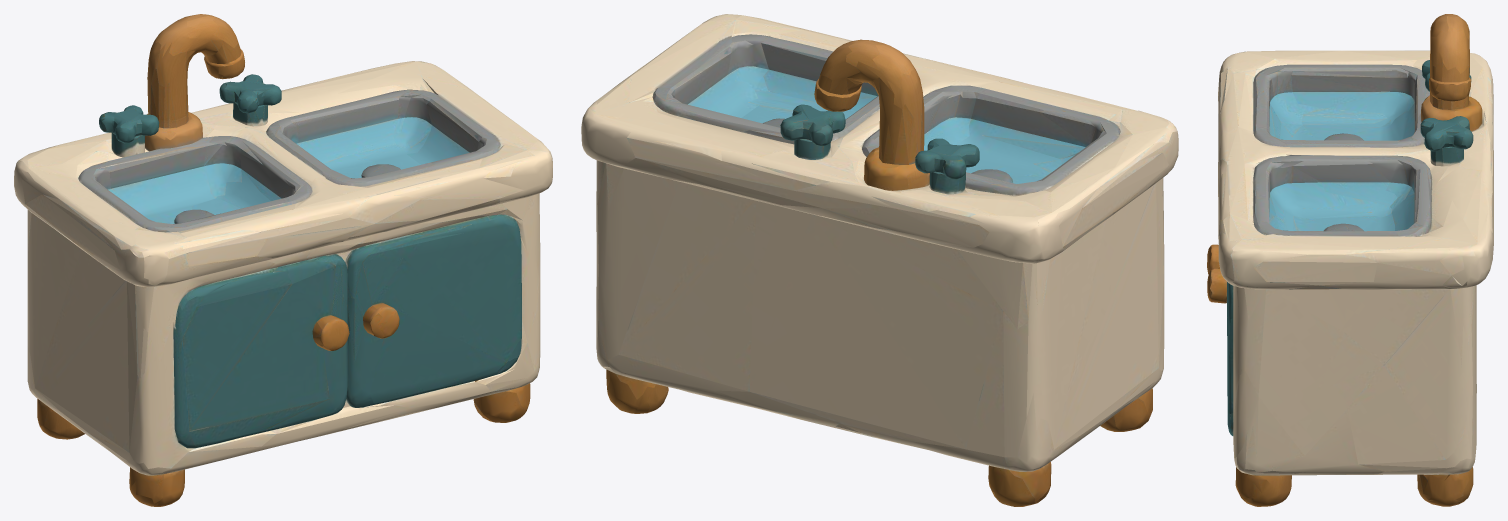
The model's file is rounded-restaurant-sink-unit-water-filled.glb.
3 views of the same model, side by side, from view 1: azimuth 30°, elevation 25°; view 2: azimuth 150°, elevation 25°; view 3: azimuth 270°, elevation 25° (orthographic). The views are drawn at different scales.
Parts seen in each view (by area): view 1: Mesh_0; view 2: Mesh_0; view 3: Mesh_0.
Boxes of the visible parts, box(x1,y1,x2,y2) form: Mesh_0: box(14, 14, 552, 506); Mesh_0: box(581, 14, 1178, 506); Mesh_0: box(1207, 14, 1493, 506).
Size of the model in its own units: 1.1 by 0.95 by 0.6533.
1 material, 1 textured.
